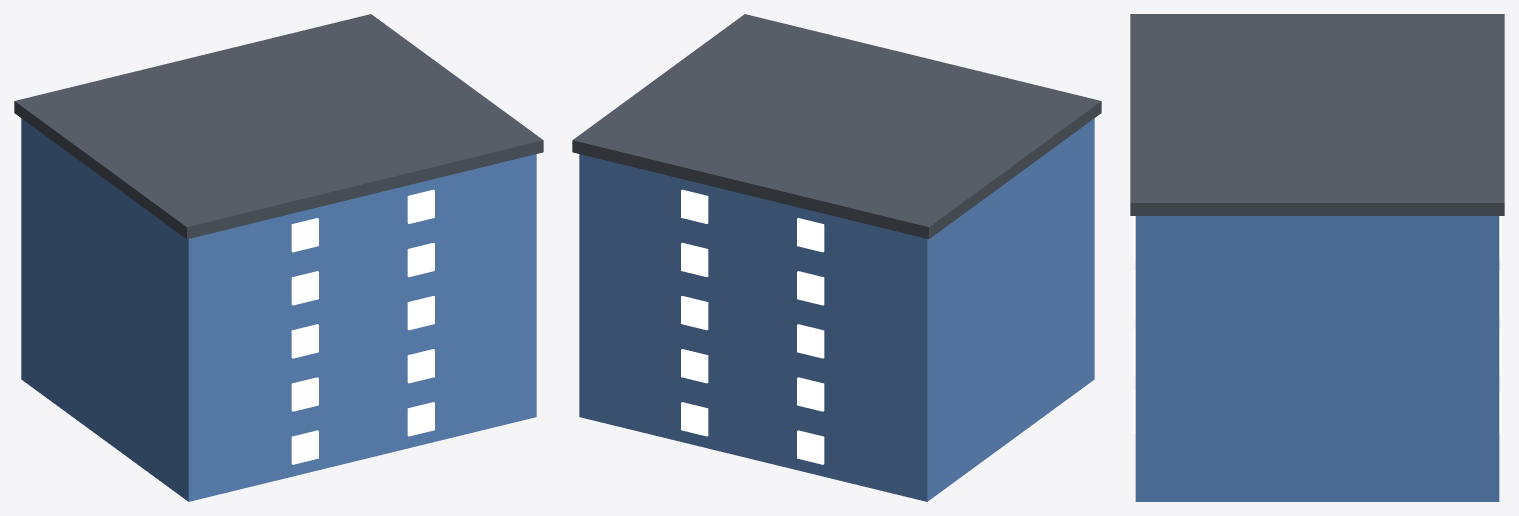
Rendered from test_building.glb.
3 renders of one model, left to right at view 1: azimuth 30°, elevation 25°; view 2: azimuth 150°, elevation 25°; view 3: azimuth 270°, elevation 25°, orthographic. The views are drawn at different scales.
Parts seen in each view (by area): view 1: BuildingBody, BuildingRoof, Cube.003, Cube.013, Cube.005, Cube.007, Cube.009, Cube.015, Cube.017, Cube.011, Cube.001, Cube.019; view 2: BuildingBody, BuildingRoof, Cube.002, Cube.012, Cube.004, Cube.006, Cube.008, Cube.014, Cube.016, Cube.010, Cube, Cube.018; view 3: BuildingBody, BuildingRoof.
Part boxes in pixels (x1,y1,x2,y2): BuildingBody: (21,118,536,501); BuildingRoof: (14,14,543,239); Cube.003: (407,402,434,436); Cube.013: (291,271,318,305); Cube.005: (291,377,318,411); Cube.007: (407,349,434,383); Cube.009: (291,324,318,358); Cube.015: (407,242,434,276); Cube.017: (291,218,318,252); Cube.011: (407,296,434,330); Cube.001: (291,430,318,464); Cube.019: (407,189,434,223); BuildingBody: (579,118,1094,501); BuildingRoof: (572,14,1101,239); Cube.002: (681,402,708,436); Cube.012: (797,271,824,305); Cube.004: (797,377,824,411); Cube.006: (681,349,708,383); Cube.008: (797,324,824,358); Cube.014: (681,242,708,276); Cube.016: (797,218,824,252); Cube.010: (681,296,708,330); Cube: (797,430,824,464); Cube.018: (681,189,708,223); BuildingBody: (1135,216,1499,501); BuildingRoof: (1130,14,1504,215).
Size of the model in its own units: 24.6 by 18.3 by 20.6.
